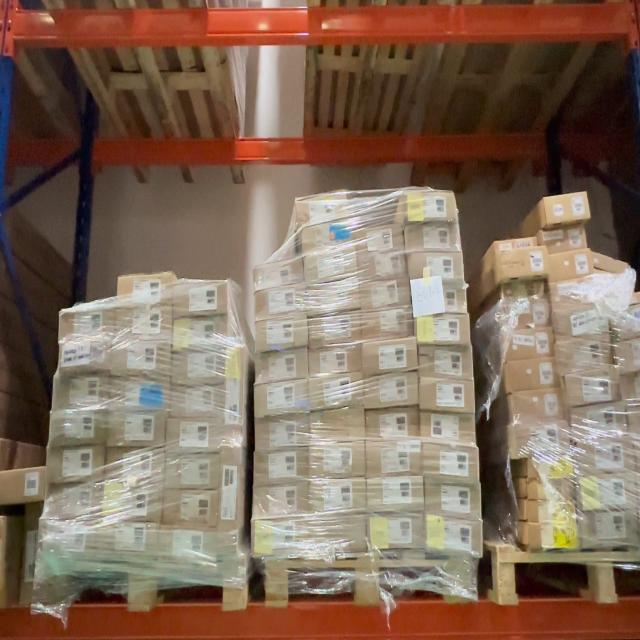box: (217, 445, 243, 559), (304, 519, 372, 556), (575, 439, 639, 476), (221, 346, 244, 444), (100, 524, 160, 561), (579, 475, 640, 511), (423, 446, 480, 483), (159, 527, 213, 566), (110, 378, 168, 414), (112, 342, 170, 378), (106, 448, 165, 483), (579, 513, 638, 548), (368, 476, 425, 512), (425, 483, 482, 519), (18, 504, 38, 606), (564, 371, 620, 407), (104, 485, 163, 519), (41, 522, 100, 556), (570, 407, 632, 439), (428, 521, 483, 557), (117, 304, 172, 340), (46, 447, 102, 482), (48, 411, 104, 446), (514, 423, 570, 458), (558, 337, 614, 372), (107, 414, 166, 447), (312, 442, 366, 478), (165, 489, 219, 525), (255, 381, 310, 416), (311, 479, 366, 514), (370, 516, 425, 551), (166, 417, 221, 452), (171, 350, 226, 385), (116, 272, 174, 305), (254, 483, 310, 517), (554, 302, 610, 336), (174, 280, 228, 315), (168, 452, 220, 488), (53, 375, 106, 410), (254, 522, 304, 559), (255, 449, 309, 483), (419, 347, 473, 381), (312, 407, 366, 441), (173, 315, 227, 349), (168, 386, 225, 418), (61, 305, 113, 340), (362, 339, 417, 372), (366, 374, 419, 408), (49, 484, 102, 518), (412, 281, 468, 313), (420, 380, 474, 413), (422, 413, 476, 446), (255, 317, 309, 350), (418, 313, 470, 347), (368, 444, 423, 476), (255, 418, 309, 450), (303, 250, 357, 282), (405, 189, 456, 222), (514, 390, 565, 423), (404, 222, 458, 252), (297, 195, 351, 225), (368, 410, 420, 441), (256, 352, 308, 383), (255, 287, 307, 318), (509, 359, 559, 391), (506, 328, 556, 360), (496, 244, 546, 276), (407, 252, 464, 280), (309, 313, 360, 344), (309, 378, 360, 409), (308, 284, 360, 314), (361, 279, 412, 309), (59, 342, 110, 372), (309, 348, 361, 377), (0, 470, 45, 503), (300, 223, 353, 251), (364, 309, 415, 338), (546, 191, 589, 224), (255, 260, 304, 288), (357, 224, 401, 254), (358, 252, 405, 280), (553, 278, 601, 305), (503, 301, 550, 328), (526, 526, 578, 550), (550, 250, 592, 279), (545, 224, 589, 250), (501, 278, 548, 302), (530, 501, 576, 525), (526, 480, 575, 502), (611, 300, 640, 336), (594, 270, 635, 295), (527, 458, 573, 479), (592, 251, 633, 274), (617, 335, 640, 371), (623, 372, 640, 406), (628, 405, 639, 438)
